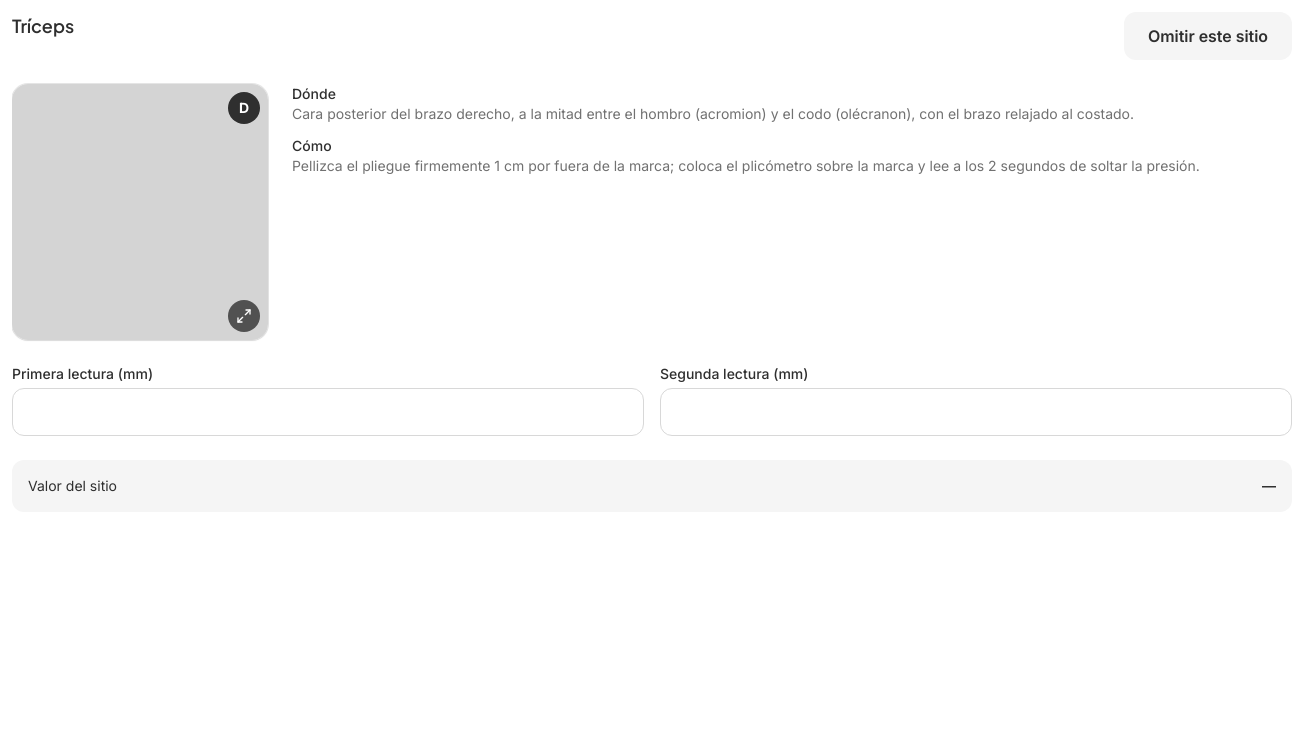
Test case: SkinfoldSiteStep › muestra el prompt de tercera lectura con 8.0 y 9.5 (diferencia supera la tolerancia)
This screenshot has width=1304, height=732.
Step 1. Type "8.0" into the number field labelled "Primera lectura (mm)" → (328, 412), box [12, 388, 644, 436]
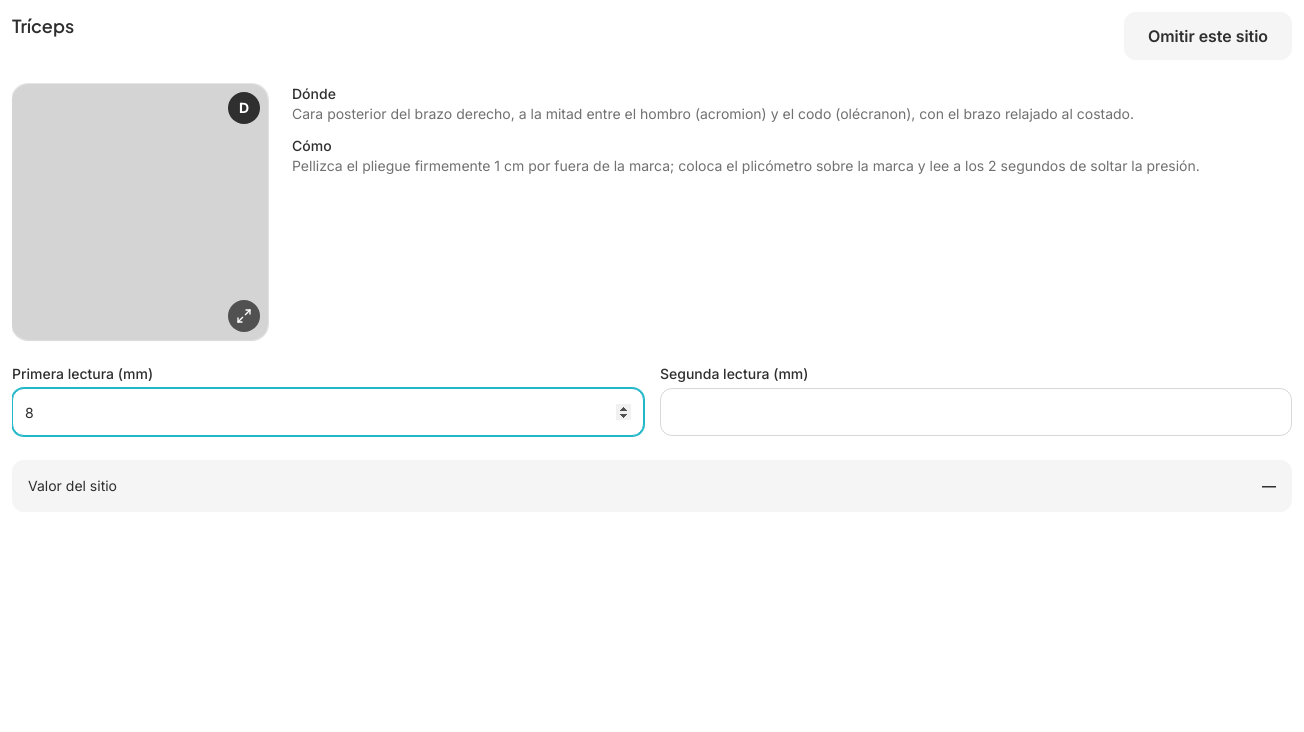
Step 2. Type "9.5" into the number field labelled "Segunda lectura (mm)" → (976, 412), box [660, 388, 1292, 436]
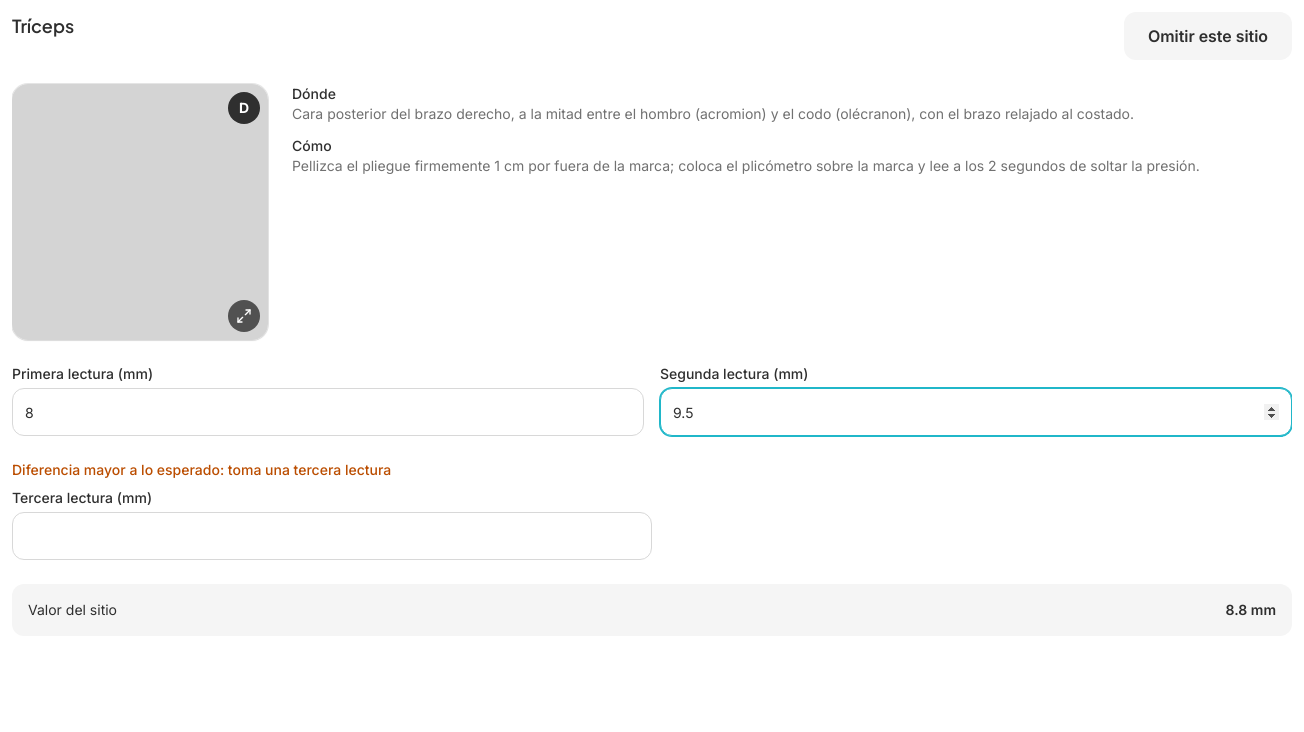
Expected: the text "Diferencia mayor a lo esperado: toma una tercera lectura" is shown, [12, 461, 391, 478]
Expected: the number field labelled "Tercera lectura (mm)" is shown, [12, 512, 652, 560]
